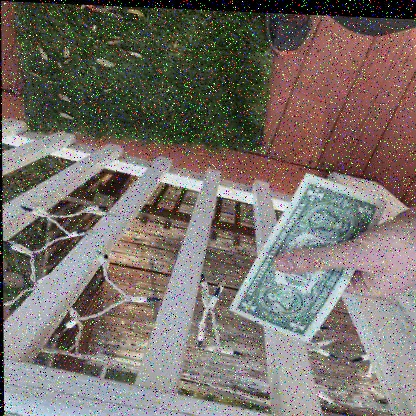one-back: (225, 176, 385, 340)
